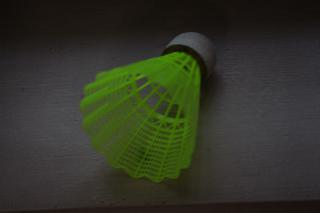shuttlecock: (80, 32, 216, 181)
